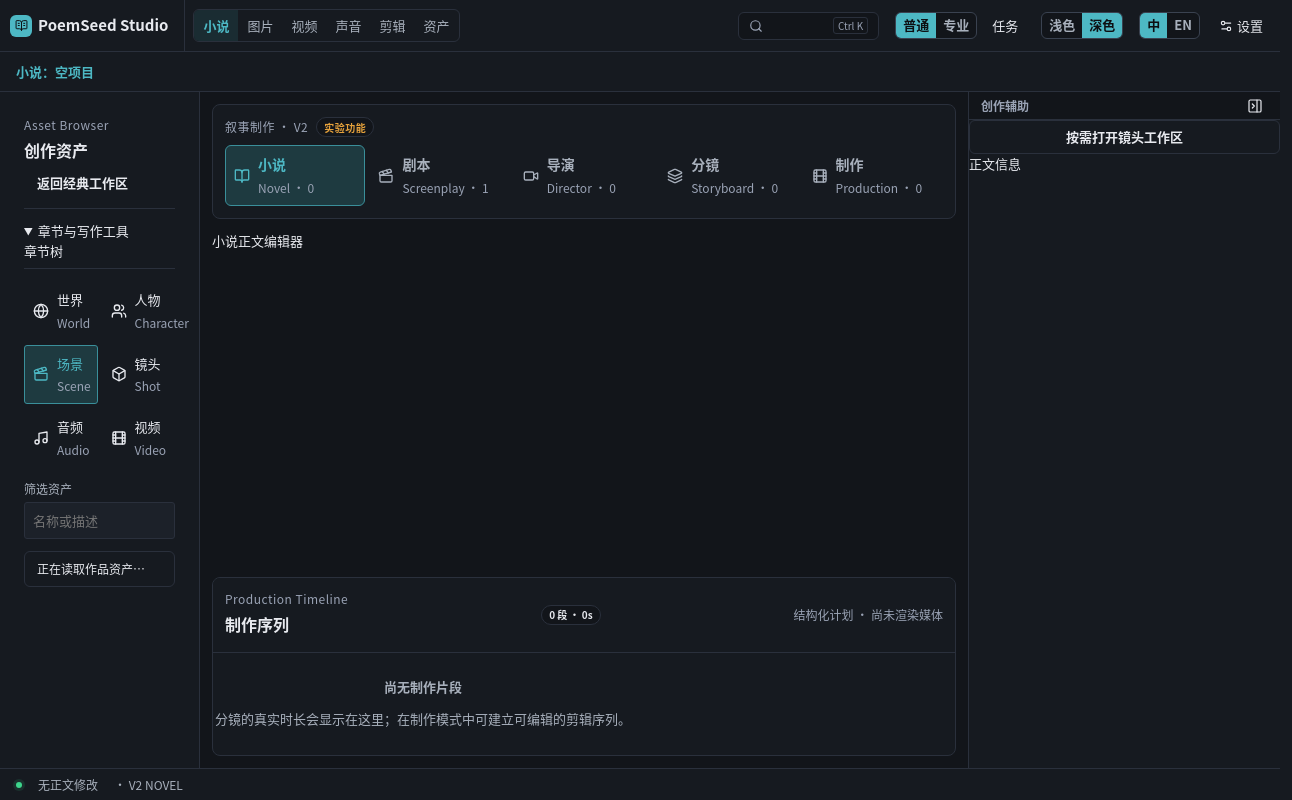
Test: standalone Script uses original Creative workspace › retains the dirty Script when changing modes or cancelling exit
Click the tab "剧本 Screenplay · 1". click: (440, 176)
box: x1=369 y1=145 x2=510 y2=206
(page scrolled)
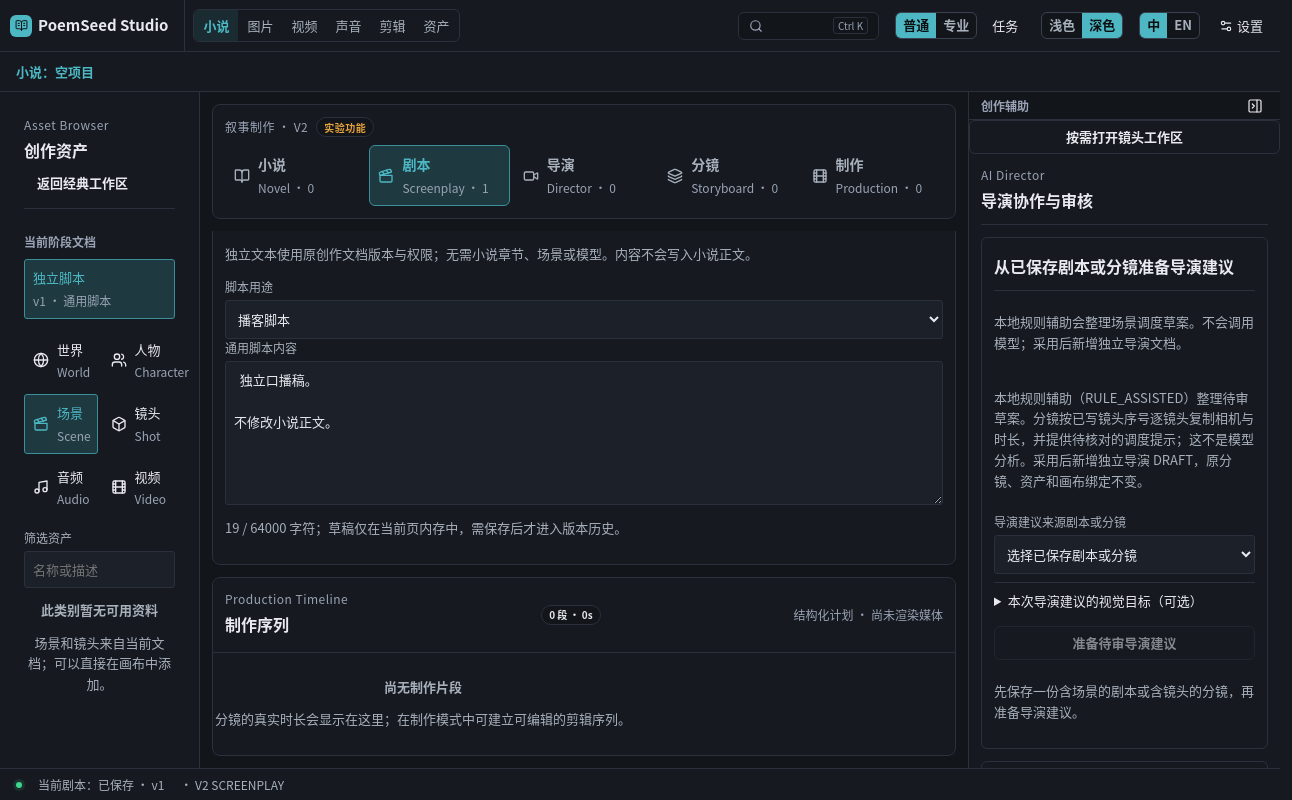
Replace the text in the text box labelled "通用脚本内容" with "未保存脚本". click: (584, 433)
box: x1=225 y1=361 x2=943 y2=505
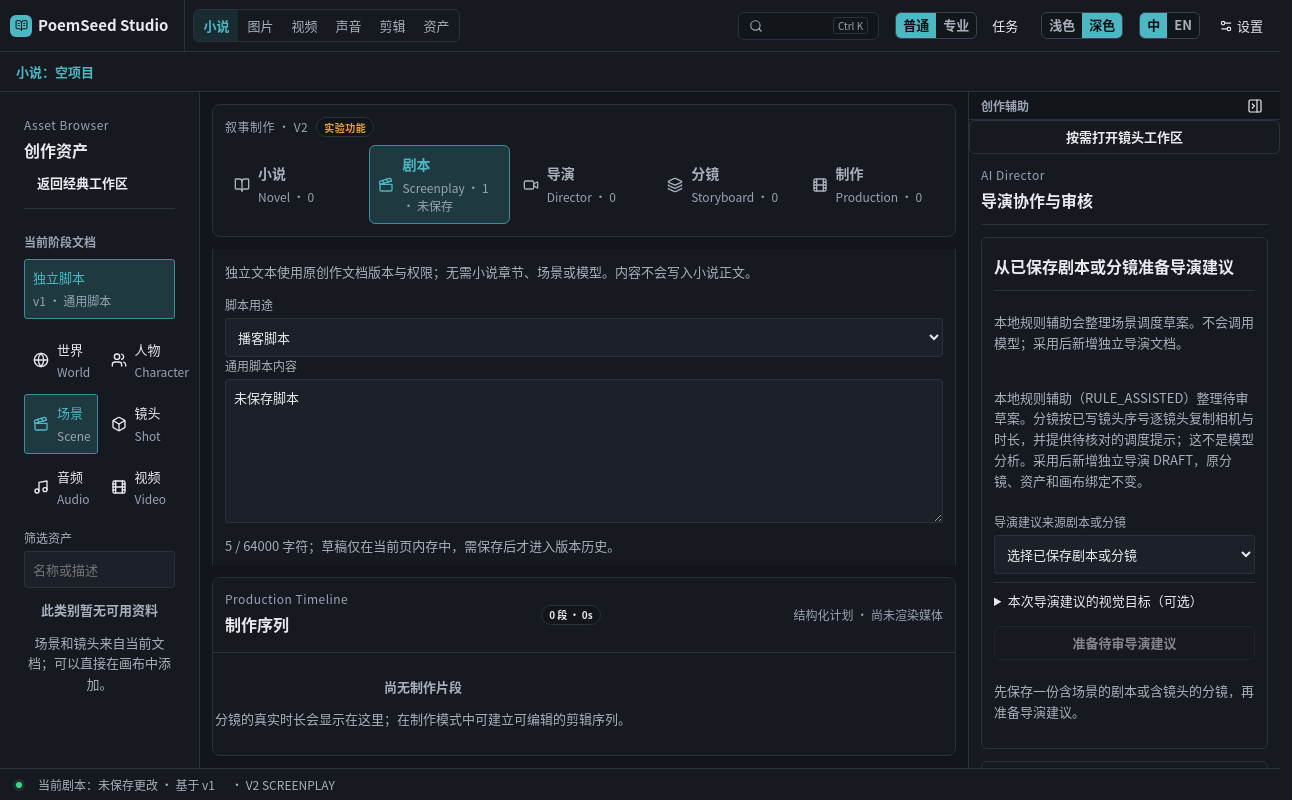
Click the tab "小说 Novel · 0". click: (295, 184)
box: x1=225 y1=145 x2=365 y2=224
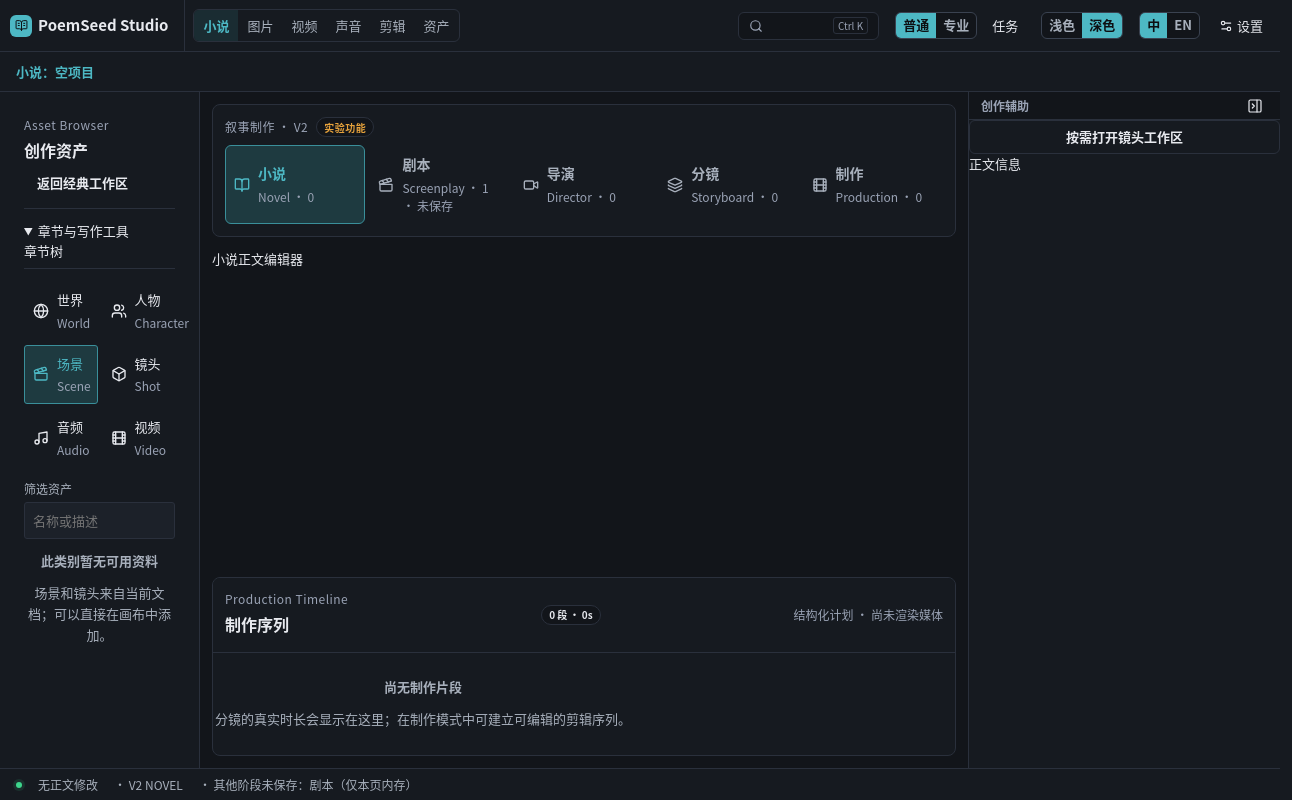
Click the tab "剧本 Screenplay · 1 · 未保存". click: (440, 184)
box: x1=369 y1=145 x2=510 y2=224
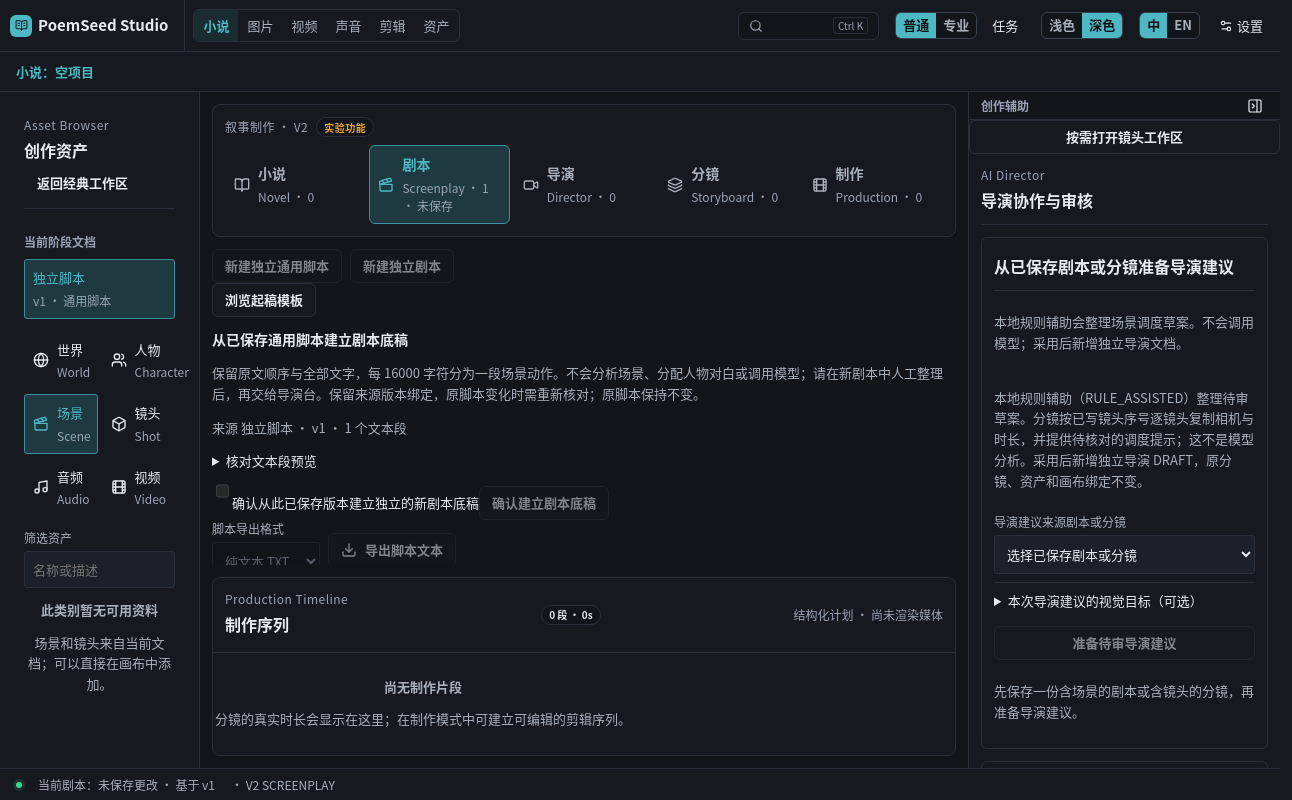
Click the button "返回经典工作区". click: (82, 183)
box: x1=24 y1=166 x2=141 y2=200
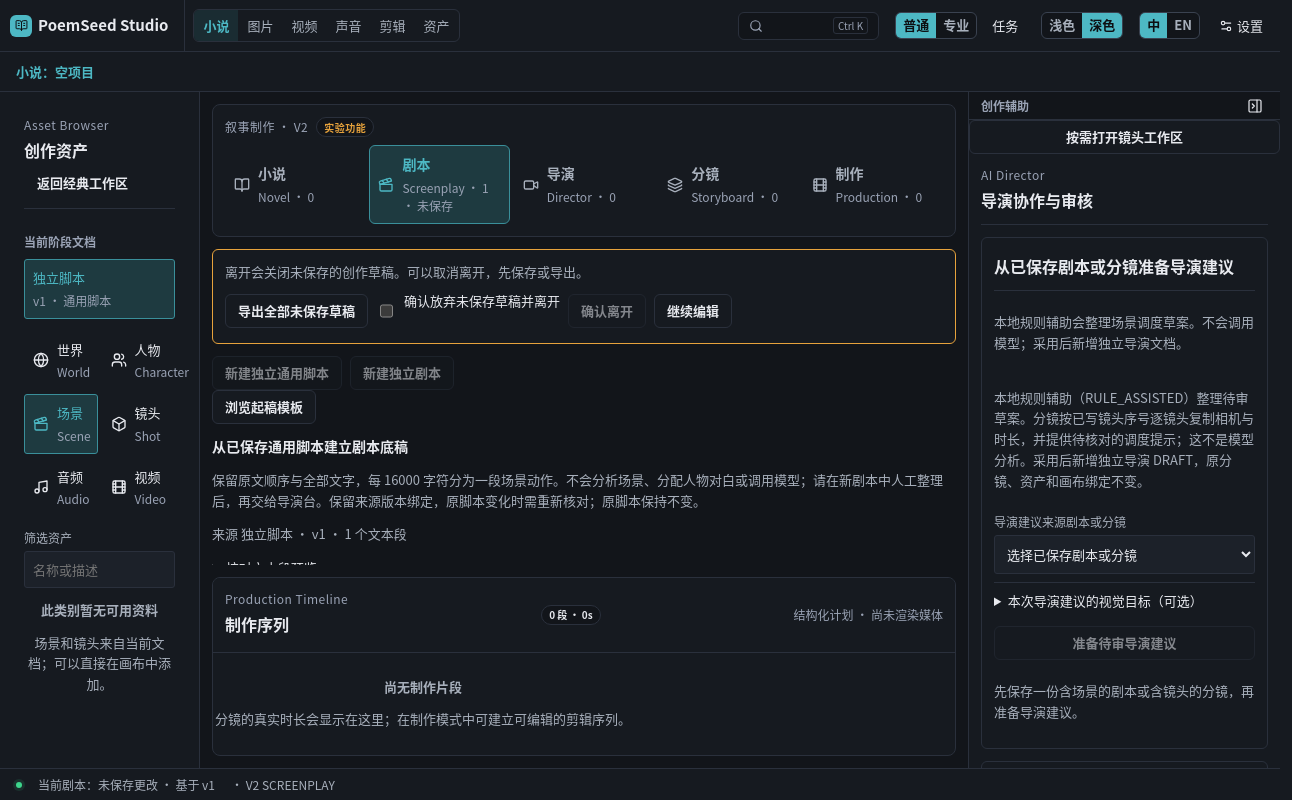
Click the button "继续编辑". click: (693, 311)
box: x1=654 y1=294 x2=732 y2=328
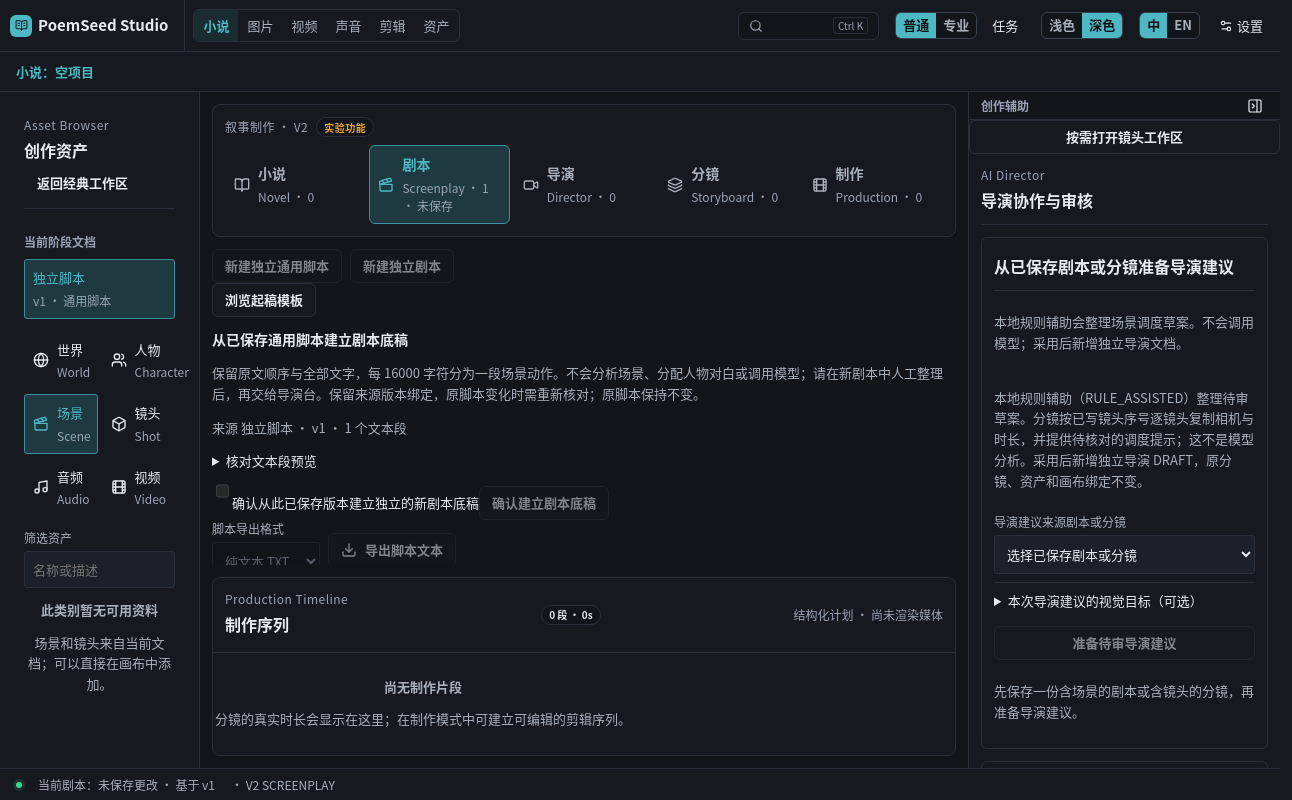
Now the button "导出脚本文本" is disabled, box x1=328 y1=533 x2=456 y2=565
